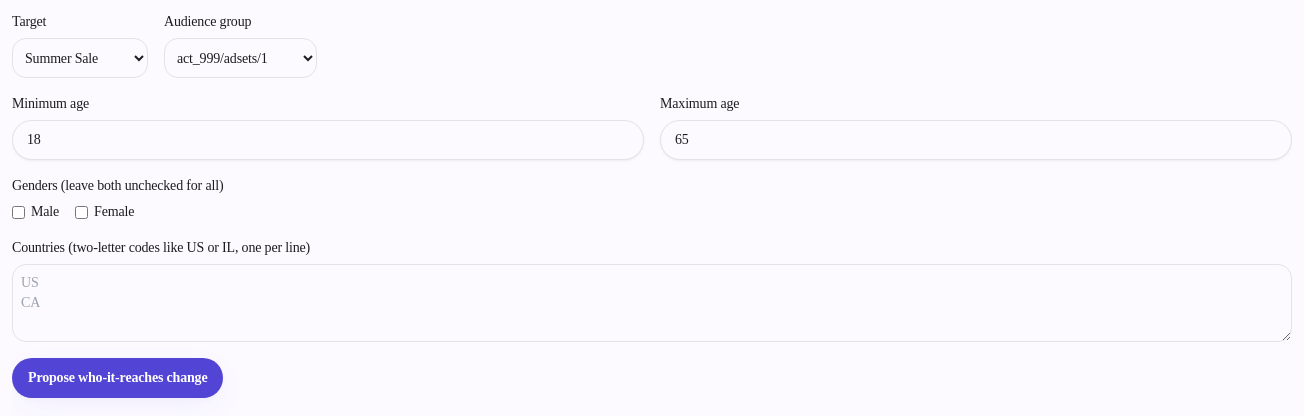
Test: AutomationProposeMetaAdSetTargetingEditForm › shows an inline error and does not submit when countries is empty
Click the button "Propose who-it-reaches change".
click(118, 378)  # box [12,358,224,398]
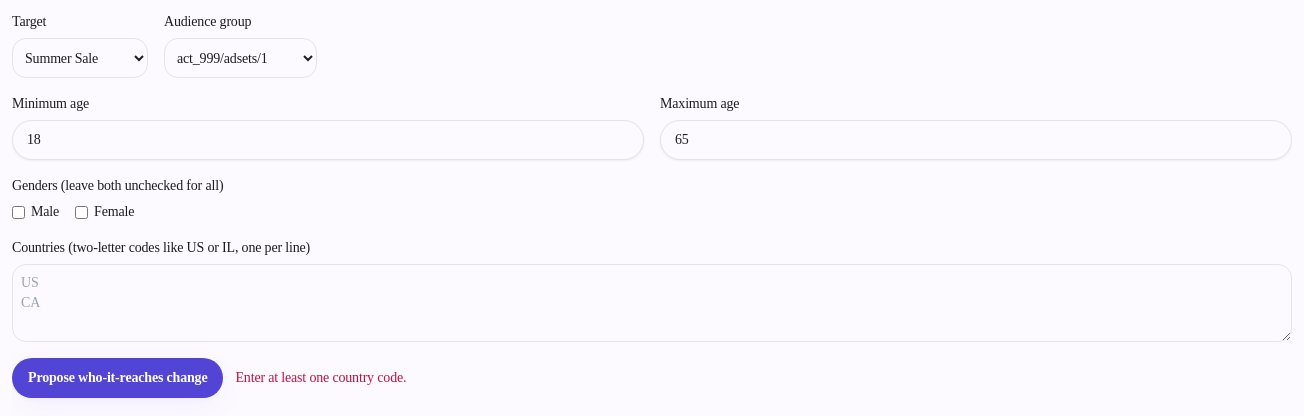
Expected: the message reads "Enter at least one country code.", [236,370,406,385]
